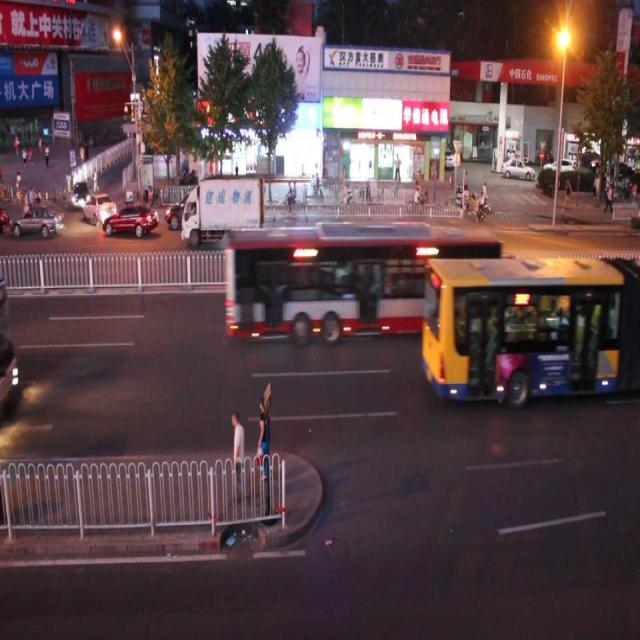bus: (180, 178, 264, 249)
car: (166, 185, 223, 232), (11, 202, 65, 241), (103, 203, 158, 239), (82, 190, 116, 225), (72, 180, 92, 210)
van: (222, 224, 498, 338), (420, 255, 640, 393)
